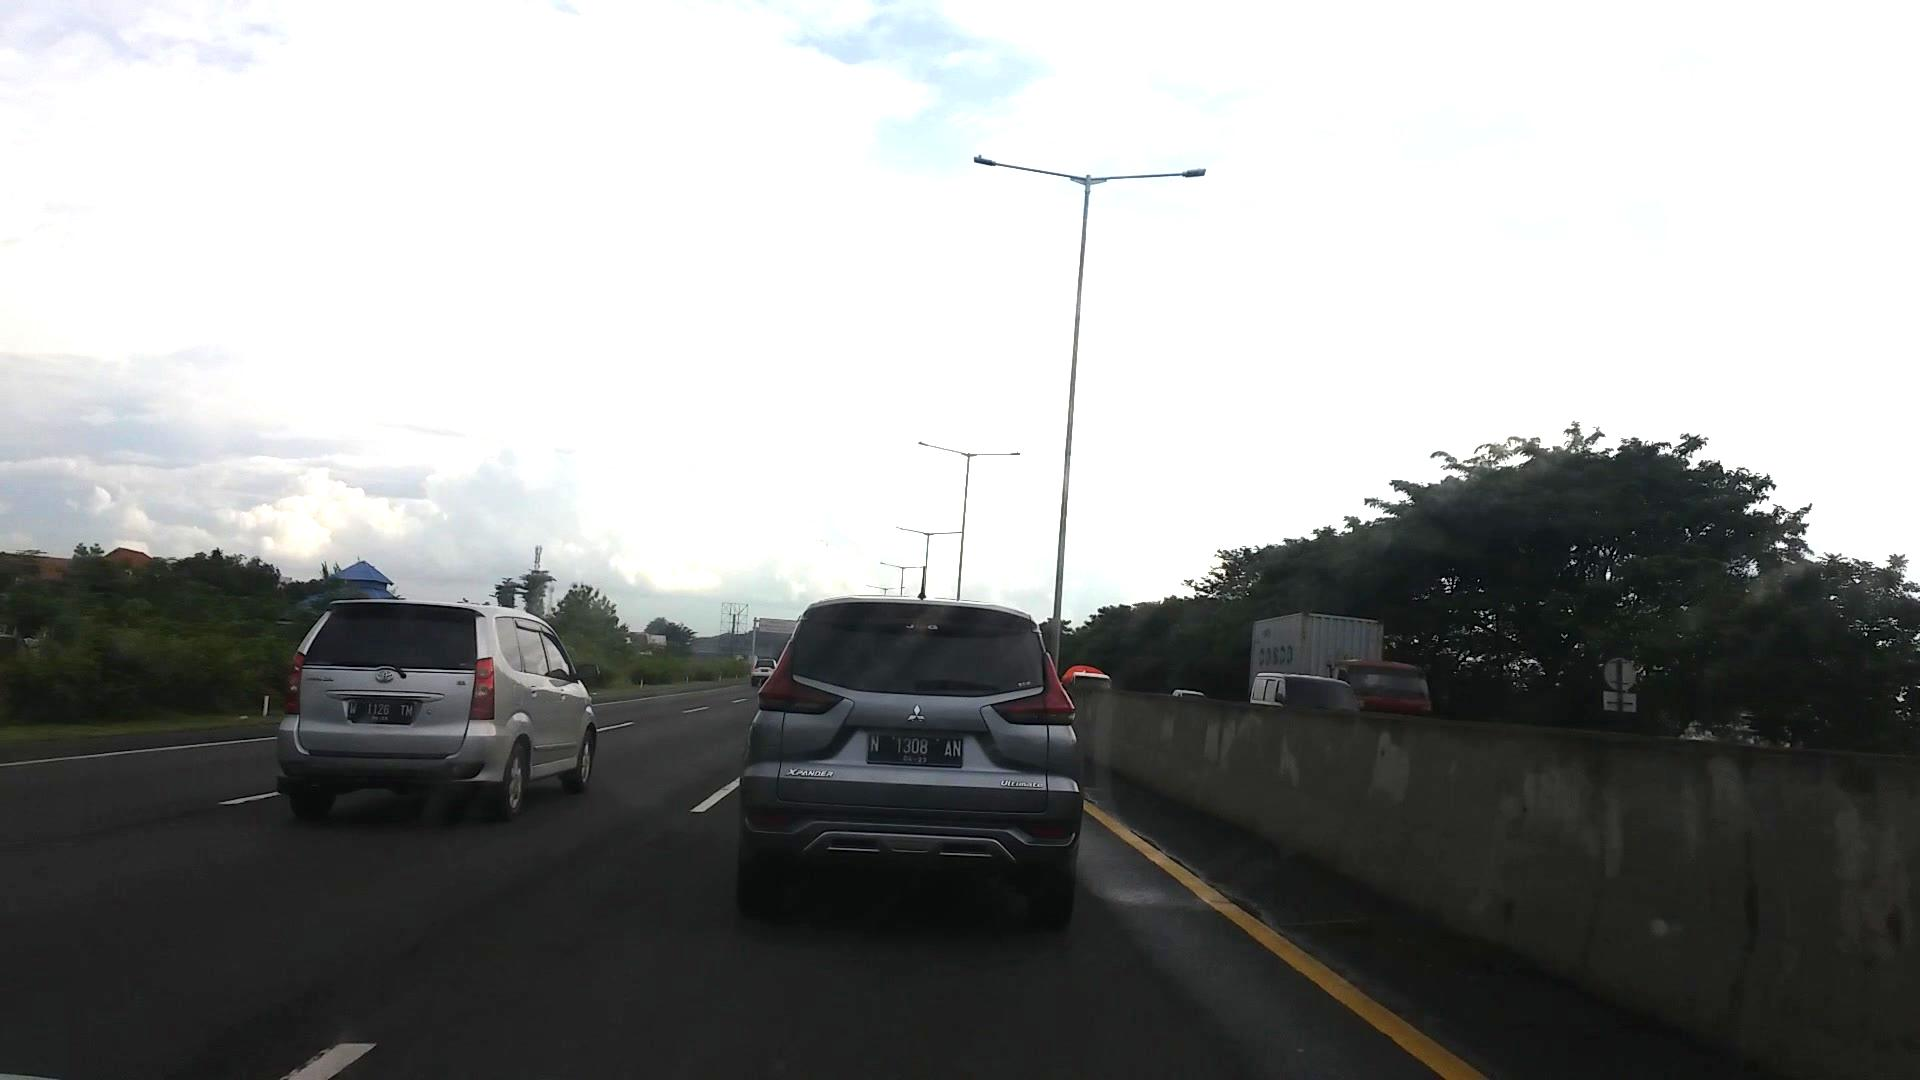plate_positive: (866, 733, 963, 767), (348, 700, 414, 725)
